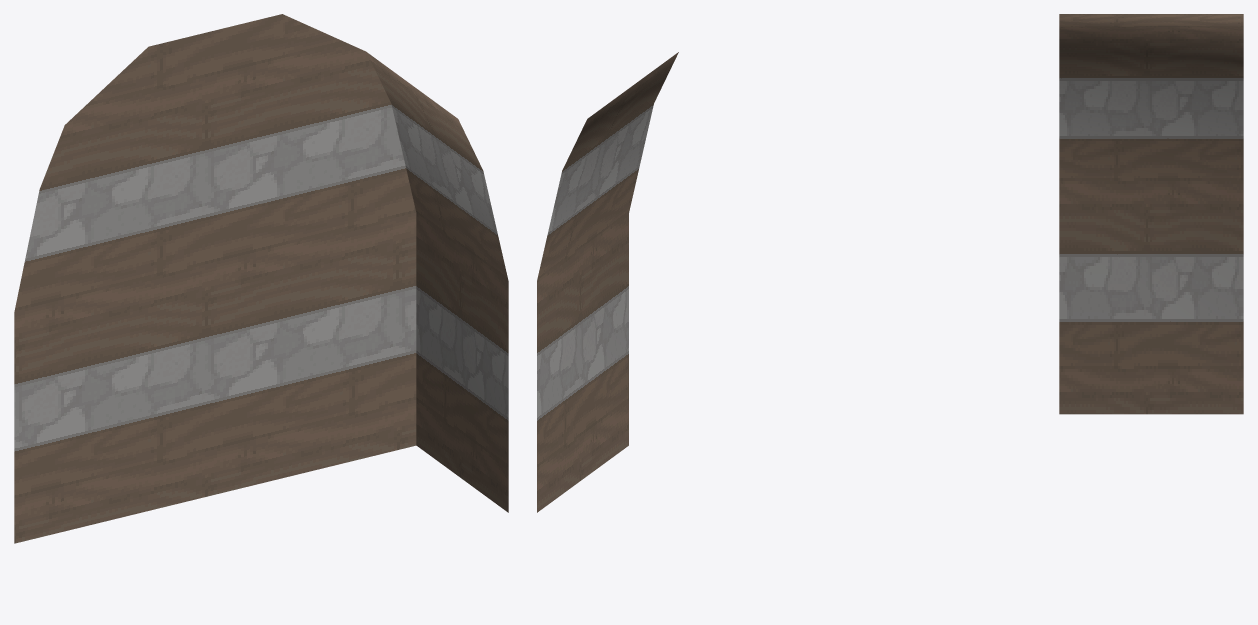
Rendered from kd_stage_1366d7_0_11.glb.
3 renders of one model, left to right at view 1: azimuth 30°, elevation 25°; view 2: azimuth 150°, elevation 25°; view 3: azimuth 270°, elevation 25°, orthographic.
Parts seen in each view (by area): view 1: kd_stage_1366d7_0_11; view 2: kd_stage_1366d7_0_11; view 3: kd_stage_1366d7_0_11.
Part boxes in pixels (x1,y1,x2,y2): kd_stage_1366d7_0_11: (14, 14, 508, 543); kd_stage_1366d7_0_11: (537, 52, 678, 512); kd_stage_1366d7_0_11: (1059, 14, 1243, 414).
Bounding box in the file's own units: 3.94 × 4.35 × 1.56.
1 material, 1 textured.
